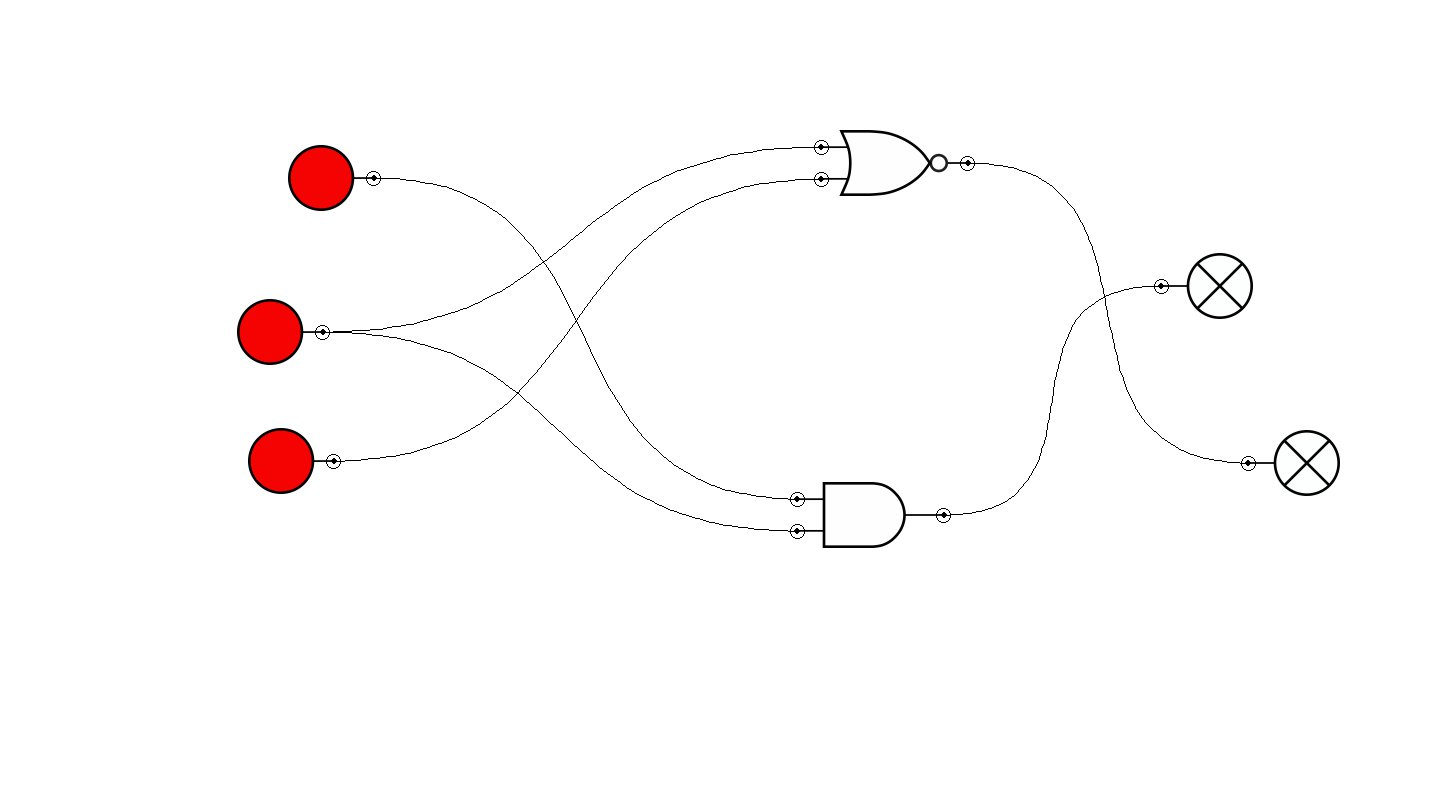and: (790, 482, 951, 548)
bulb: (1154, 253, 1253, 319), (1241, 430, 1340, 496)
nor: (814, 130, 975, 196)
switch_False: (288, 145, 381, 211), (248, 428, 341, 494), (237, 299, 330, 365)
